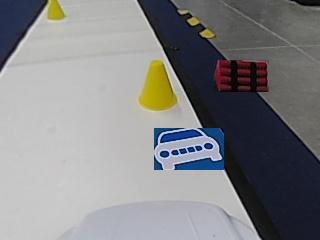cone: (139, 63, 176, 109), (46, 1, 66, 19)
